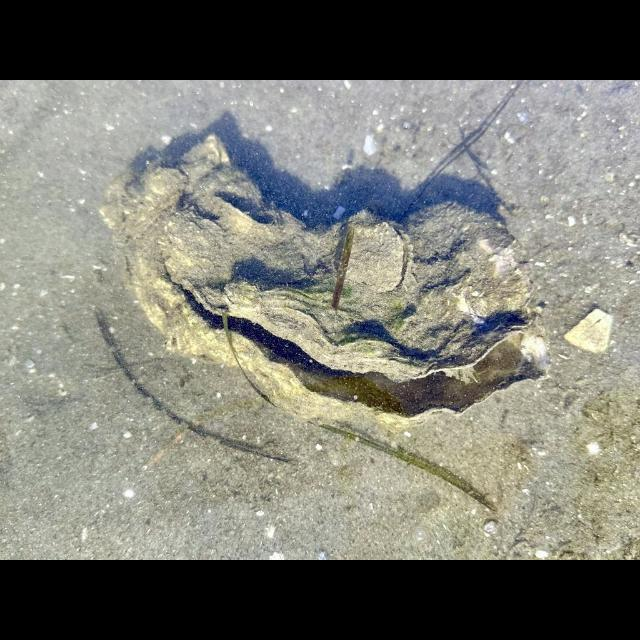Oyster-Open: (97, 132, 553, 430)
